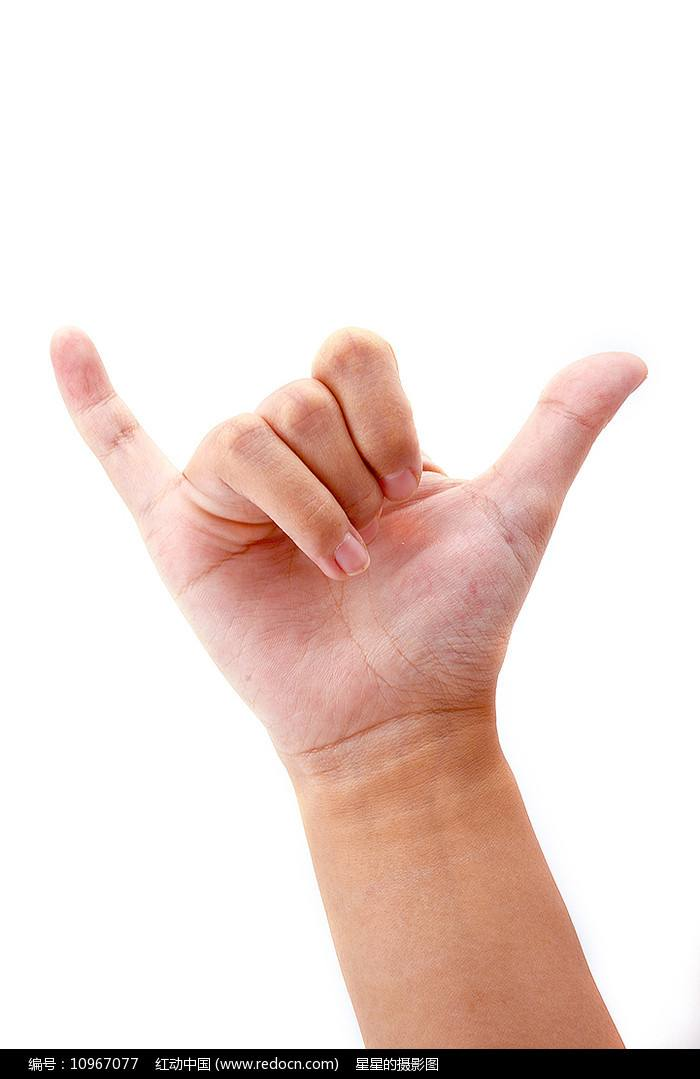clockwise: (47, 320, 652, 749)
